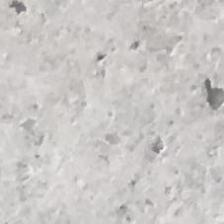Non_Crack: (10, 14, 224, 224)
